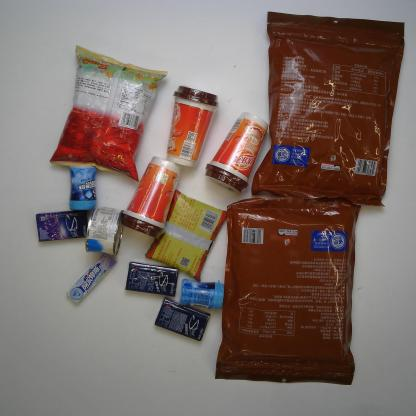Candy: (64, 254, 118, 306)
Canned Food: (85, 206, 124, 257)
Dried Food: (251, 9, 405, 208), (215, 197, 361, 386)
Gum: (154, 298, 211, 342), (124, 260, 180, 296), (32, 209, 89, 242), (65, 164, 100, 211), (177, 278, 226, 310)
Instant Drink: (204, 111, 268, 195), (121, 155, 181, 239), (166, 84, 221, 169)
Puffed Food: (48, 44, 169, 181)
Seasoner: (144, 187, 230, 282)
